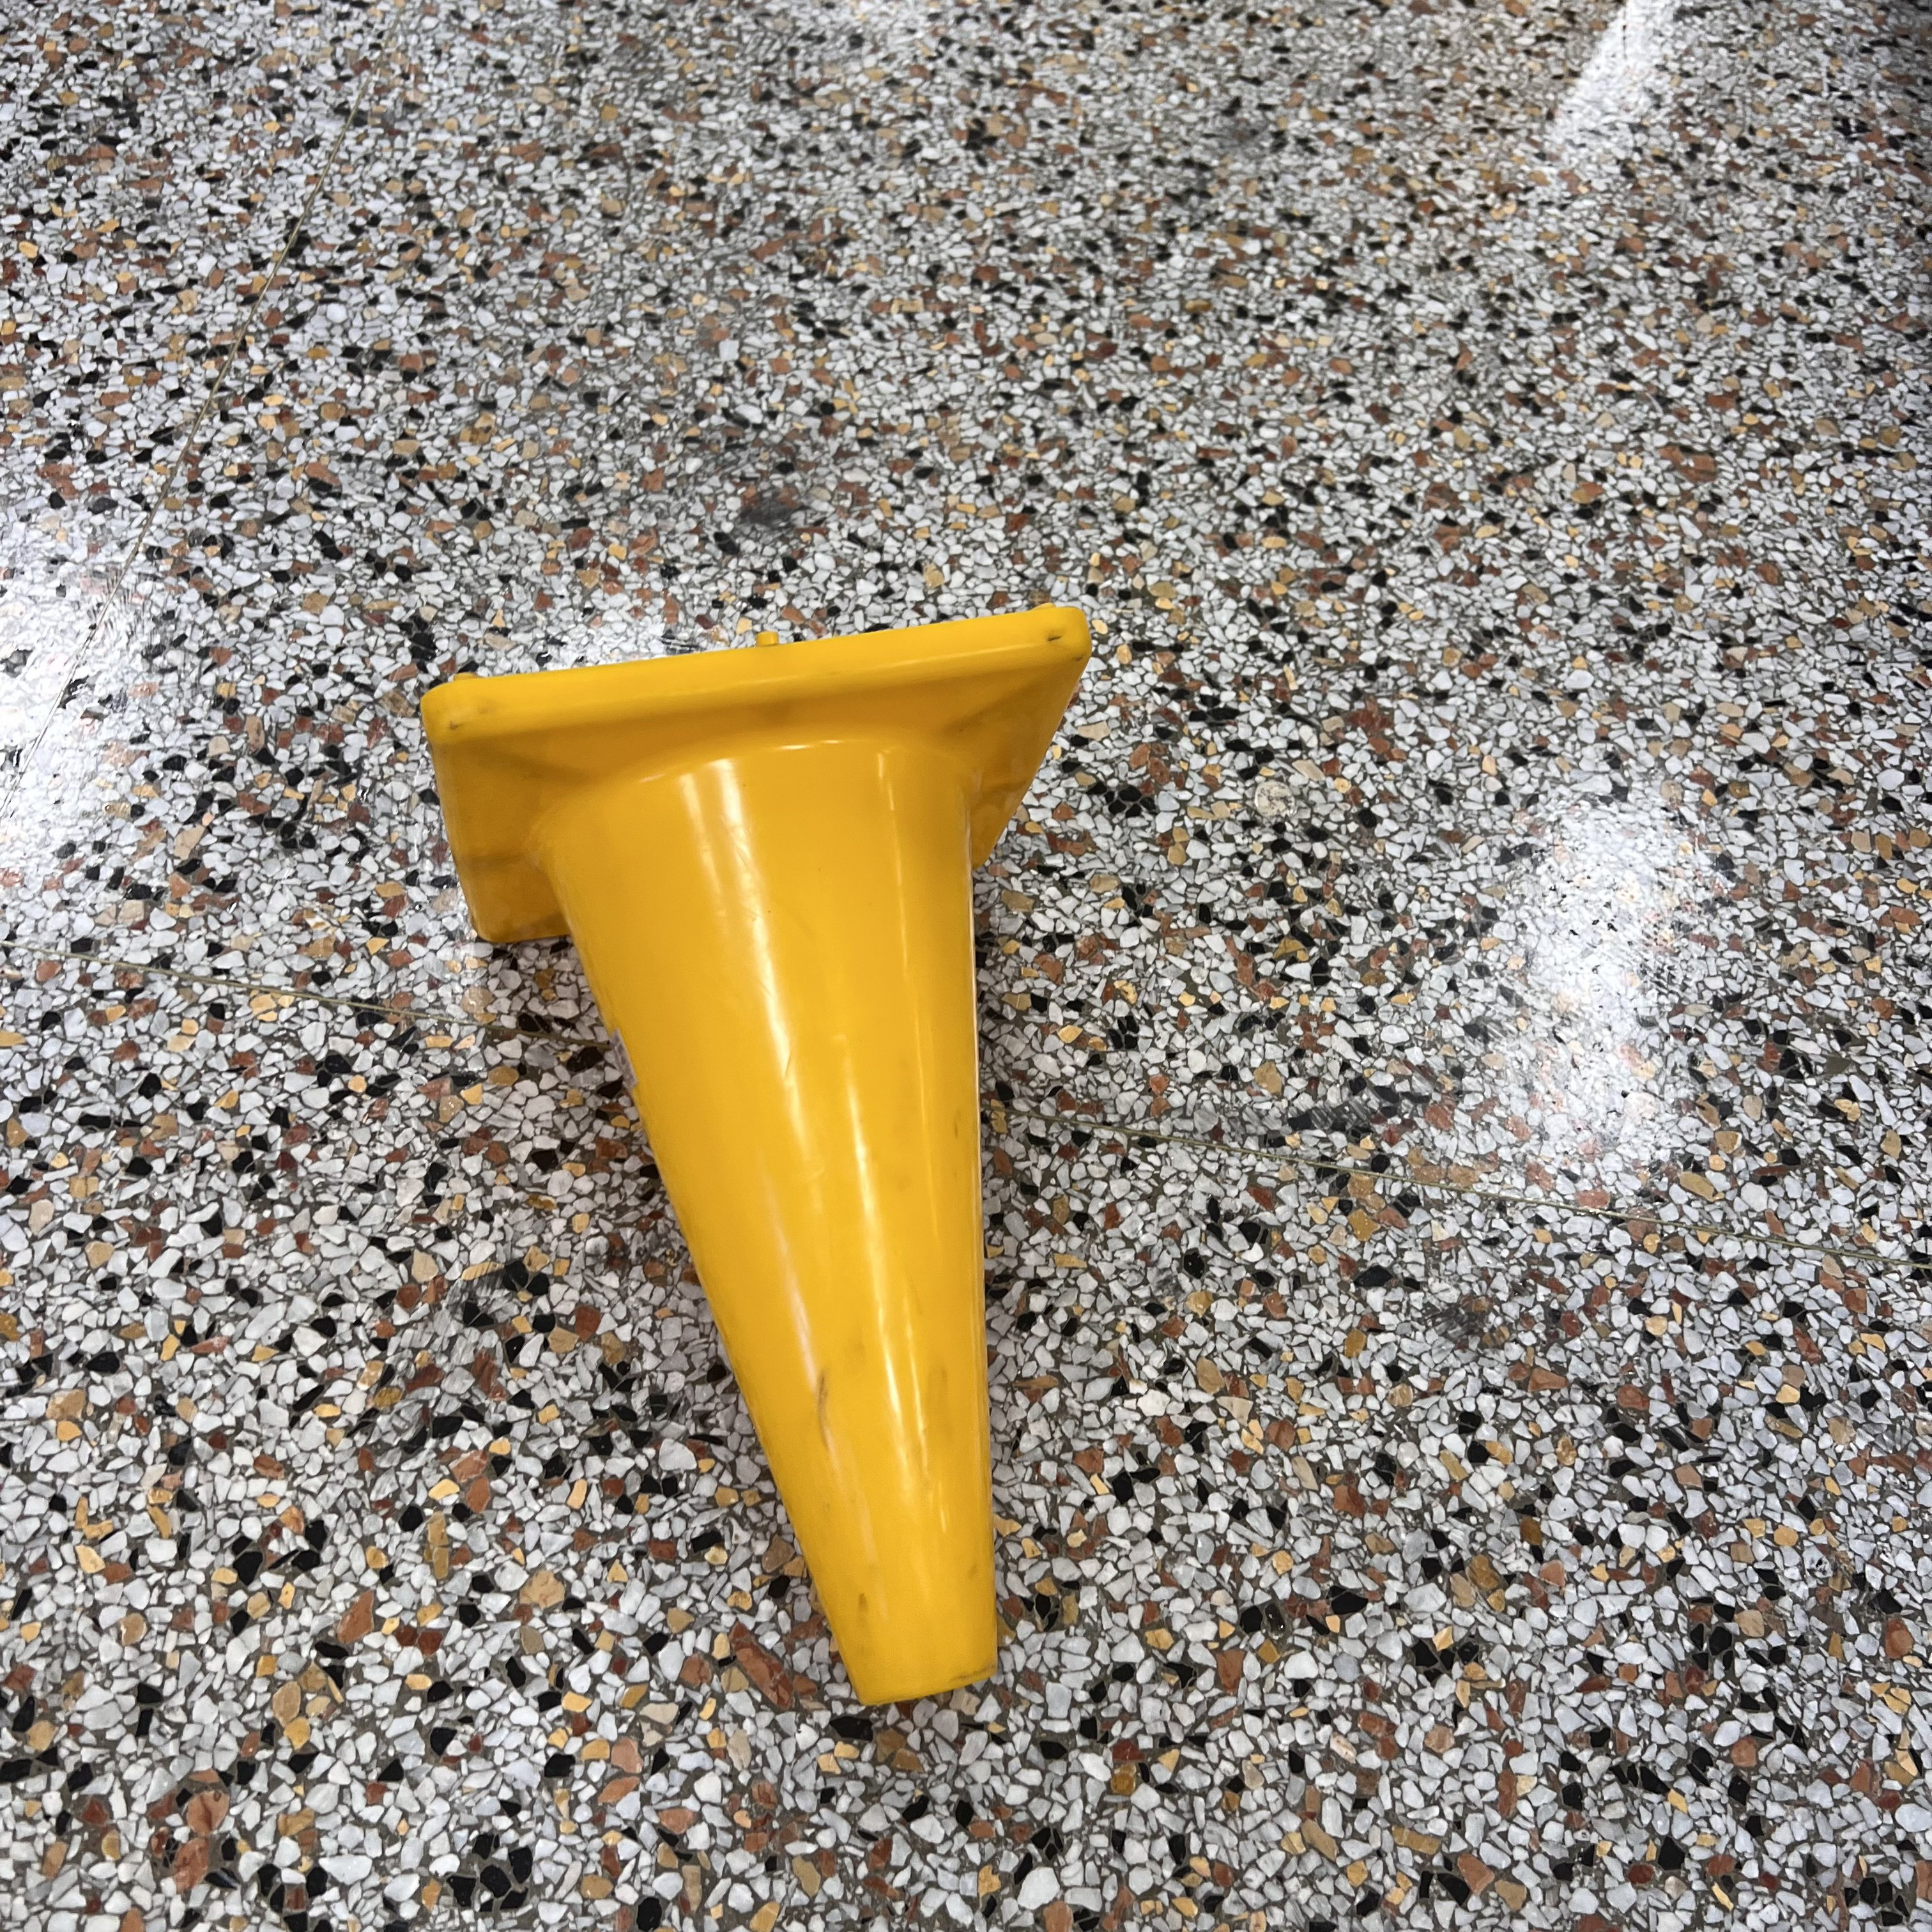cone: (419, 605, 1092, 1707)
